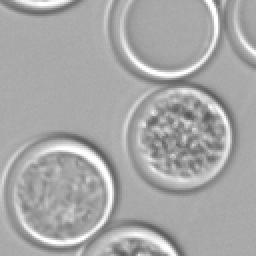picoshell: (4, 136, 116, 248), (128, 86, 232, 190), (106, 0, 220, 80), (88, 226, 178, 254), (224, 0, 254, 66), (4, 0, 74, 10)
